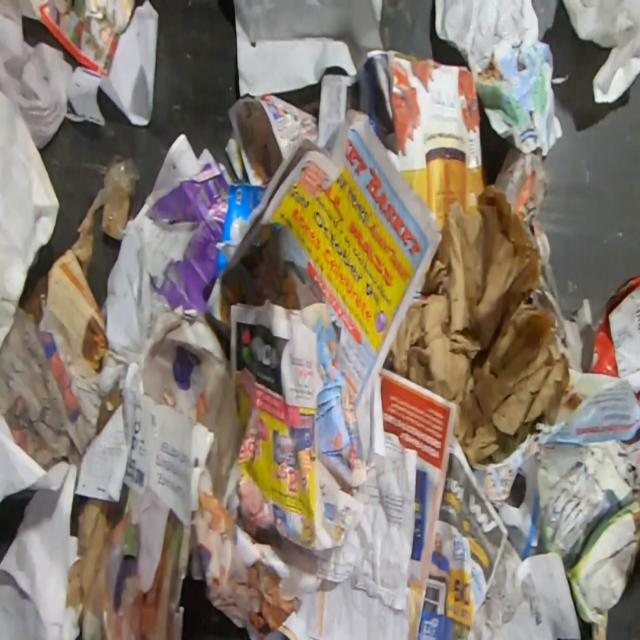cardboard: (536, 443, 640, 640), (140, 303, 225, 415), (46, 247, 109, 379), (64, 497, 118, 630), (587, 272, 640, 404), (69, 203, 98, 275), (20, 270, 49, 326), (100, 198, 132, 242)
soft_plastic: (184, 349, 242, 500), (90, 154, 143, 213), (147, 287, 173, 339), (531, 0, 560, 43)
